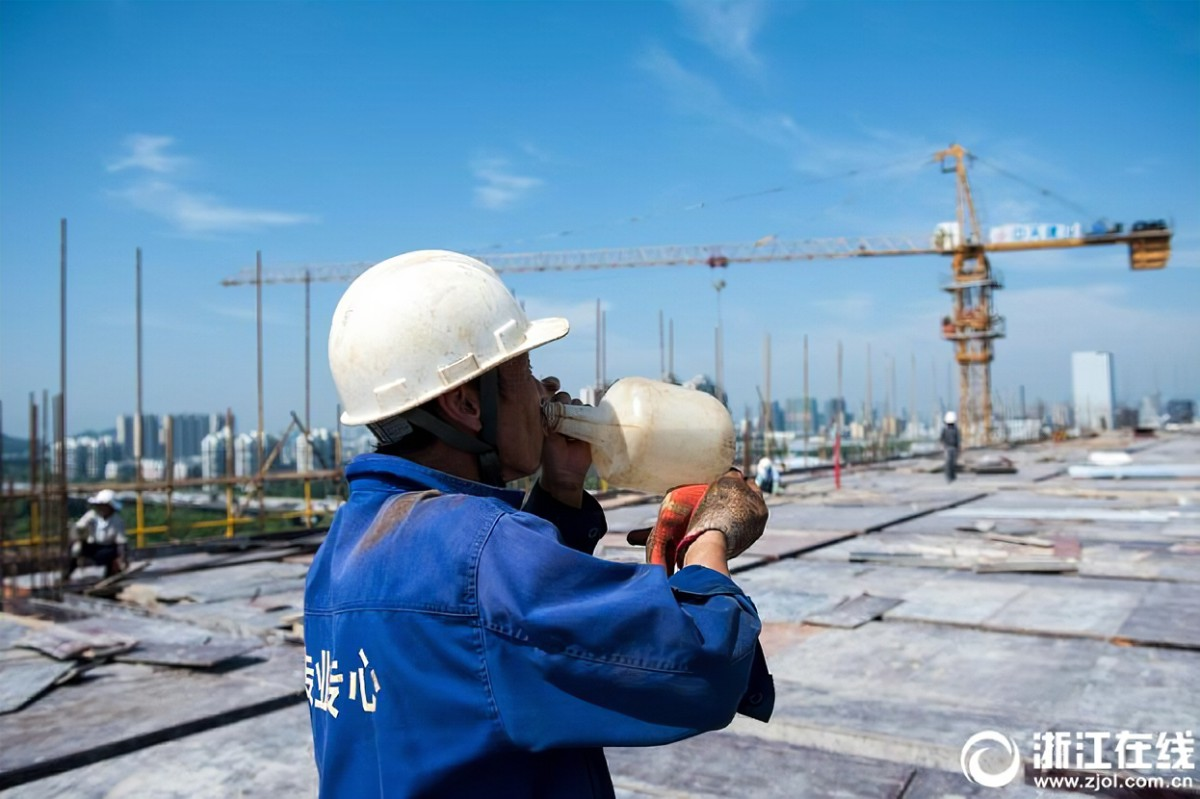safetyhat: (229, 187, 752, 799)
